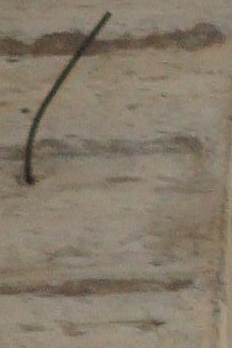Exposed reinforcement: (24, 10, 114, 187)
